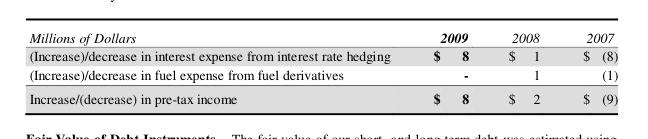table: (28, 28, 617, 108)
table column: (28, 28, 411, 108), (411, 28, 487, 108), (487, 28, 560, 108), (560, 28, 617, 108)
table column header: (28, 28, 617, 46)
table row: (28, 64, 617, 86), (28, 86, 617, 108), (28, 28, 617, 46), (28, 46, 617, 64)
